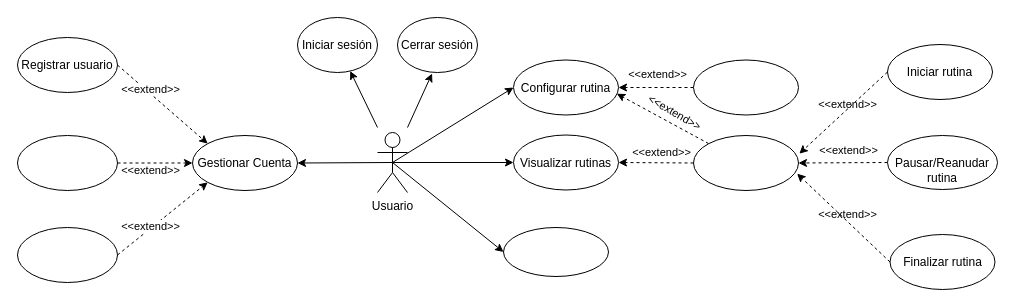
Image size: 1015x307. Some labels were removed from this diagram. The centre of each missing label's shape, as x and y in pixels:
Calibrar sistema: the point at 745,87
Editar datos del usuario: the point at 67,162
Eliminar usuario: the point at 67,254
Entrenar: the point at 745,162
Visualizar estadísticas: the point at 555,251
